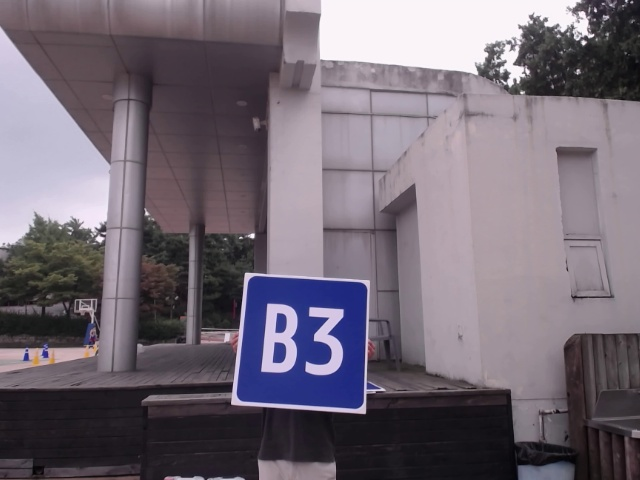delivery_b3: (238, 275, 366, 410)
